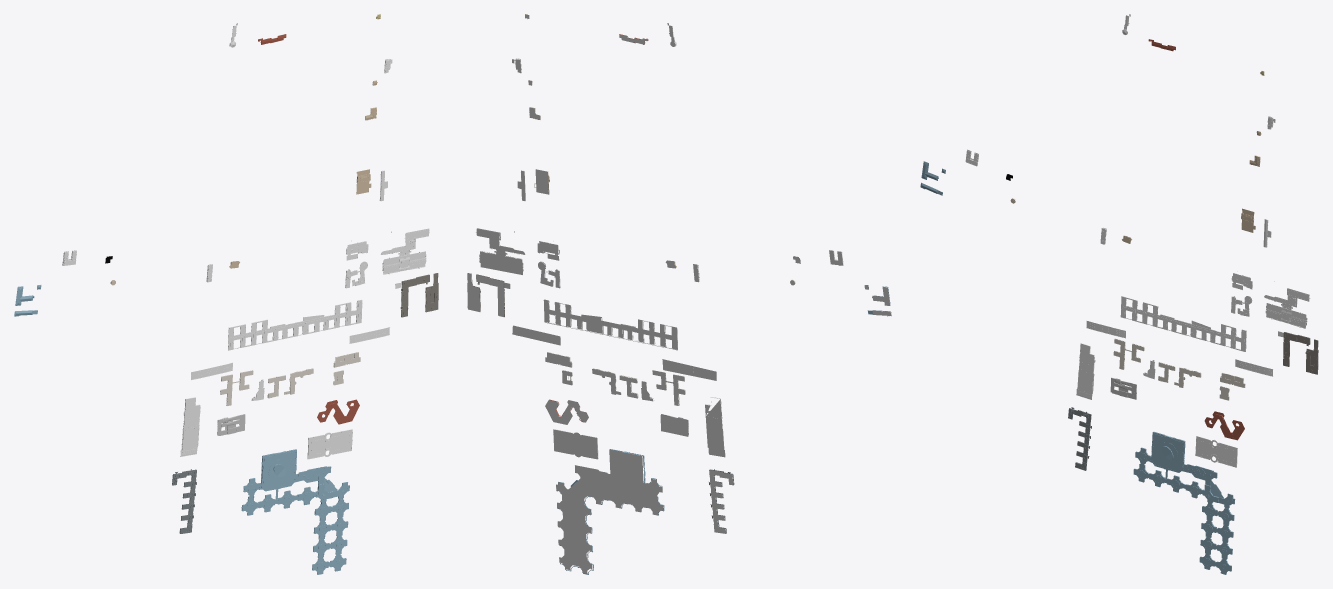
3 views of the same model, side by side, from view 1: azimuth 30°, elevation 25°; view 2: azimuth 150°, elevation 25°; view 3: azimuth 330°, elevation 25° (orthographic). The views are drawn at different scales.
Size of the model in its own units: 6846 by 8826 by 47.26.
